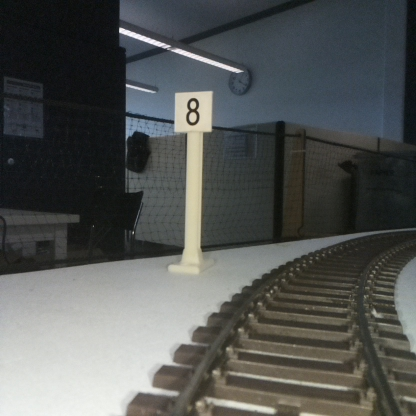white-info-8: (175, 90, 212, 270)
